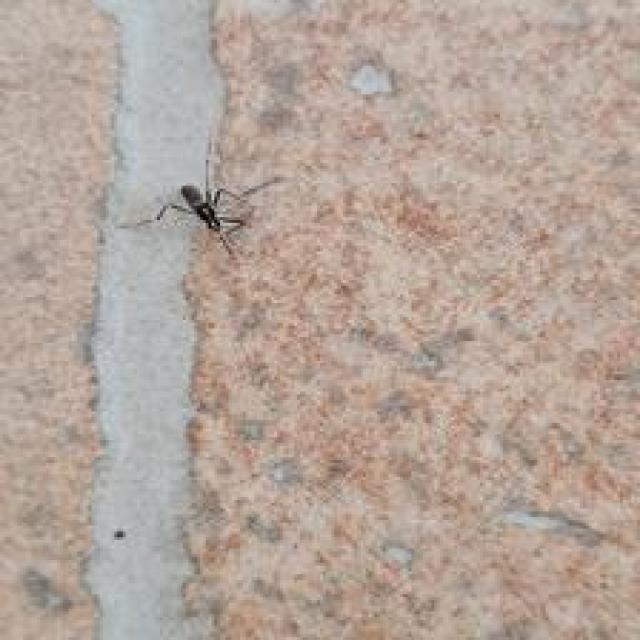Aedes albopictus: (117, 142, 280, 258)
